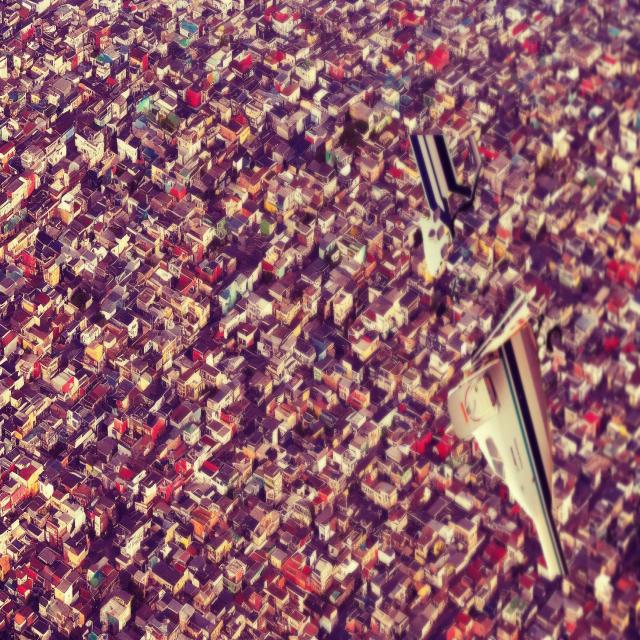airplane: (410, 133, 570, 584)
